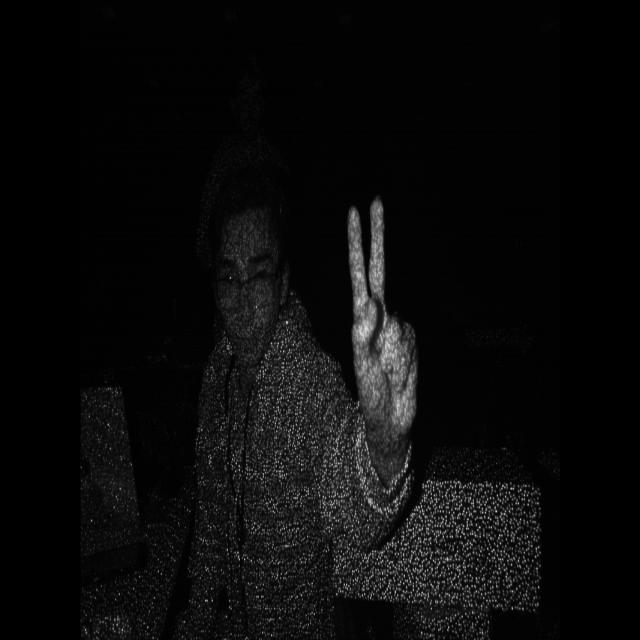K: (333, 180, 425, 432)
